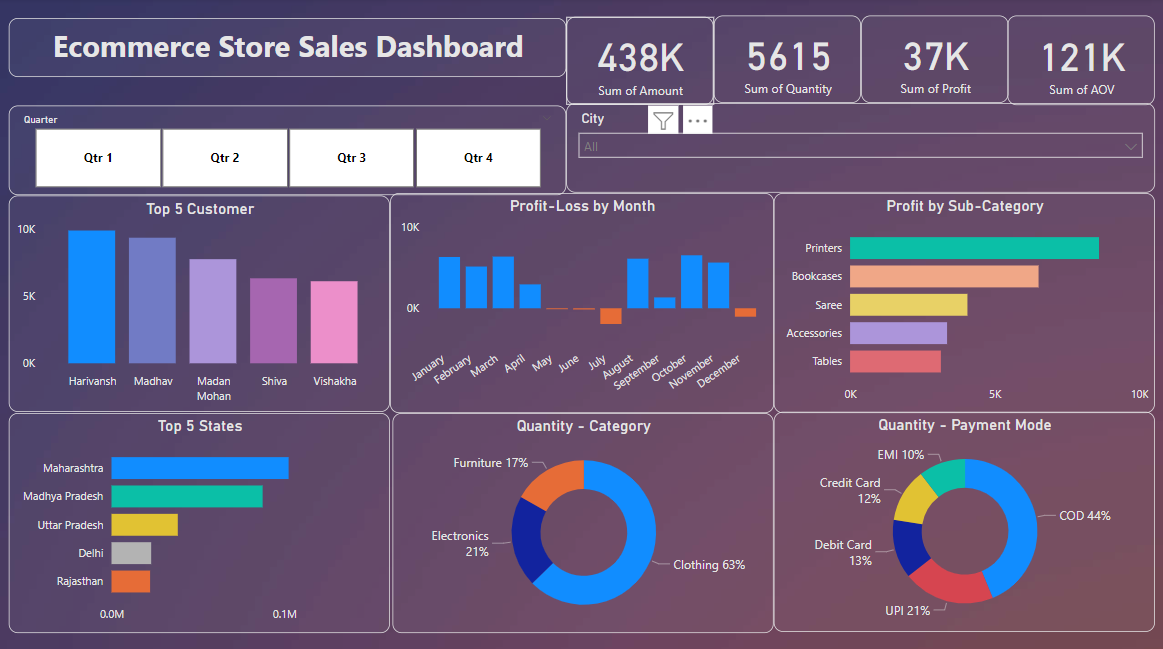

This screenshot's page, from the dashboard's own definition file:
{"tool":"powerbi","page":{"name":"Ecommerce Store Sales","canvas":[1280,720],"ordinal":0},"visuals":[{"type":"textbox","box":[9.6,22,612,64.5],"z":0},{"type":"columnChart","title":"Profit-Loss by Month","fields":{"Y":["Details.Profit"],"Category":["Orders.Order Date.Variation.Date Hierarchy.Month"]},"box":[428.1,214.1,421.3,241.5],"z":1000},{"type":"barChart","title":"Profit by Sub-Category","fields":{"Category":["Details.Sub-Category"],"Y":["Details.Profit"]},"box":[849.4,214.1,418.5,241.5],"z":2000},{"type":"donutChart","title":"Quantity - Category","fields":{"Category":["Details.Category"],"Y":["Details.Quantity"]},"box":[430.9,455.6,418.5,241.5],"z":3000},{"type":"donutChart","title":"Quantity - Payment Mode","fields":{"Category":["Details.PaymentMode"],"Y":["Details.Quantity"]},"box":[849.4,454.2,418.5,241.5],"z":4000},{"type":"card","fields":{"Values":["Details.Amount"]},"box":[621.4,20,161.4,97.1],"z":5000},{"type":"card","fields":{"Values":["Details.Quantity"]},"box":[783.5,19.2,161.9,96.1],"z":6000},{"type":"card","fields":{"Values":["Details.Profit"]},"box":[945.5,19.2,161.9,96.1],"z":7000},{"type":"card","fields":{"Values":["Details.AOV"]},"box":[1106,19.2,161.9,98.8],"z":8000},{"type":"barChart","title":"Top 5 States","fields":{"Category":["Orders.State"],"Y":["Details.Amount"]},"box":[9.6,455.6,418.5,241.5],"z":9000},{"type":"columnChart","title":"Top 5 Customer","fields":{"Category":["Orders.CustomerName"],"Y":["Details.Amount"]},"box":[9.6,216.8,418.5,237.4],"z":10000},{"type":"slicer","fields":{"Values":["Orders.Order Date.Variation.Date Hierarchy.Quarter"]},"box":[9.6,118,612,98.8],"z":11000},{"type":"slicer","fields":{"Values":["Orders.City"]},"box":[621.6,115.3,646.3,98.8],"z":12000}]}

Visuals, with their boxes in screenshot pixels (x1, y1, x2, y2), scaled from the page's 1280x720 canvas onto the 1163x649 screenshot:
textbox: (x1=9, y1=20, x2=565, y2=78)
"Profit-Loss by Month" columnChart: (x1=389, y1=193, x2=772, y2=411)
"Profit by Sub-Category" barChart: (x1=772, y1=193, x2=1152, y2=411)
"Quantity - Category" donutChart: (x1=392, y1=411, x2=772, y2=628)
"Quantity - Payment Mode" donutChart: (x1=772, y1=409, x2=1152, y2=627)
card - Details.Amount: (x1=565, y1=18, x2=711, y2=106)
card - Details.Quantity: (x1=712, y1=17, x2=859, y2=104)
card - Details.Profit: (x1=859, y1=17, x2=1006, y2=104)
card - Details.AOV: (x1=1005, y1=17, x2=1152, y2=106)
"Top 5 States" barChart: (x1=9, y1=411, x2=389, y2=628)
"Top 5 Customer" columnChart: (x1=9, y1=195, x2=389, y2=409)
slicer - Orders.Order Date.Variation.Date Hierarchy.Quarter: (x1=9, y1=106, x2=565, y2=195)
slicer - Orders.City: (x1=565, y1=104, x2=1152, y2=193)
